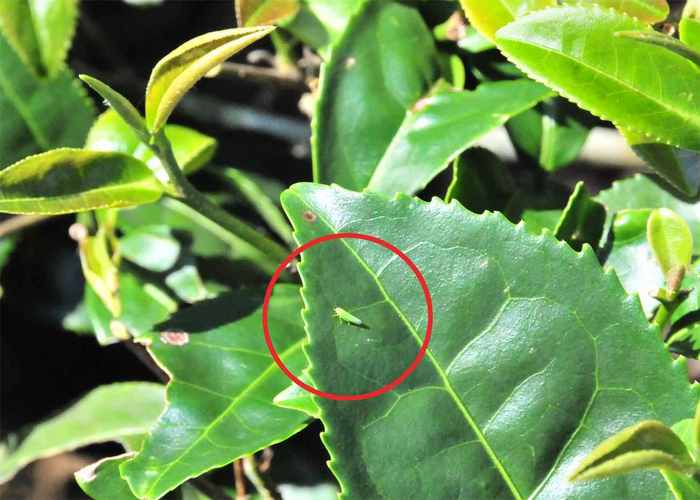Cicadellidae: (332, 305, 362, 324)
